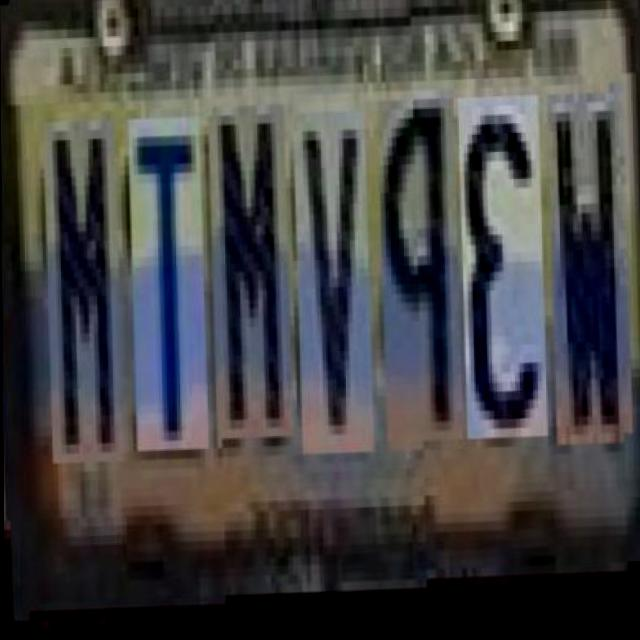3: (456, 100, 545, 444)
m: (207, 98, 291, 434), (41, 103, 122, 447)
p: (376, 93, 460, 446)
t: (126, 100, 205, 436)
v: (290, 104, 371, 449)
w: (546, 97, 630, 451)
